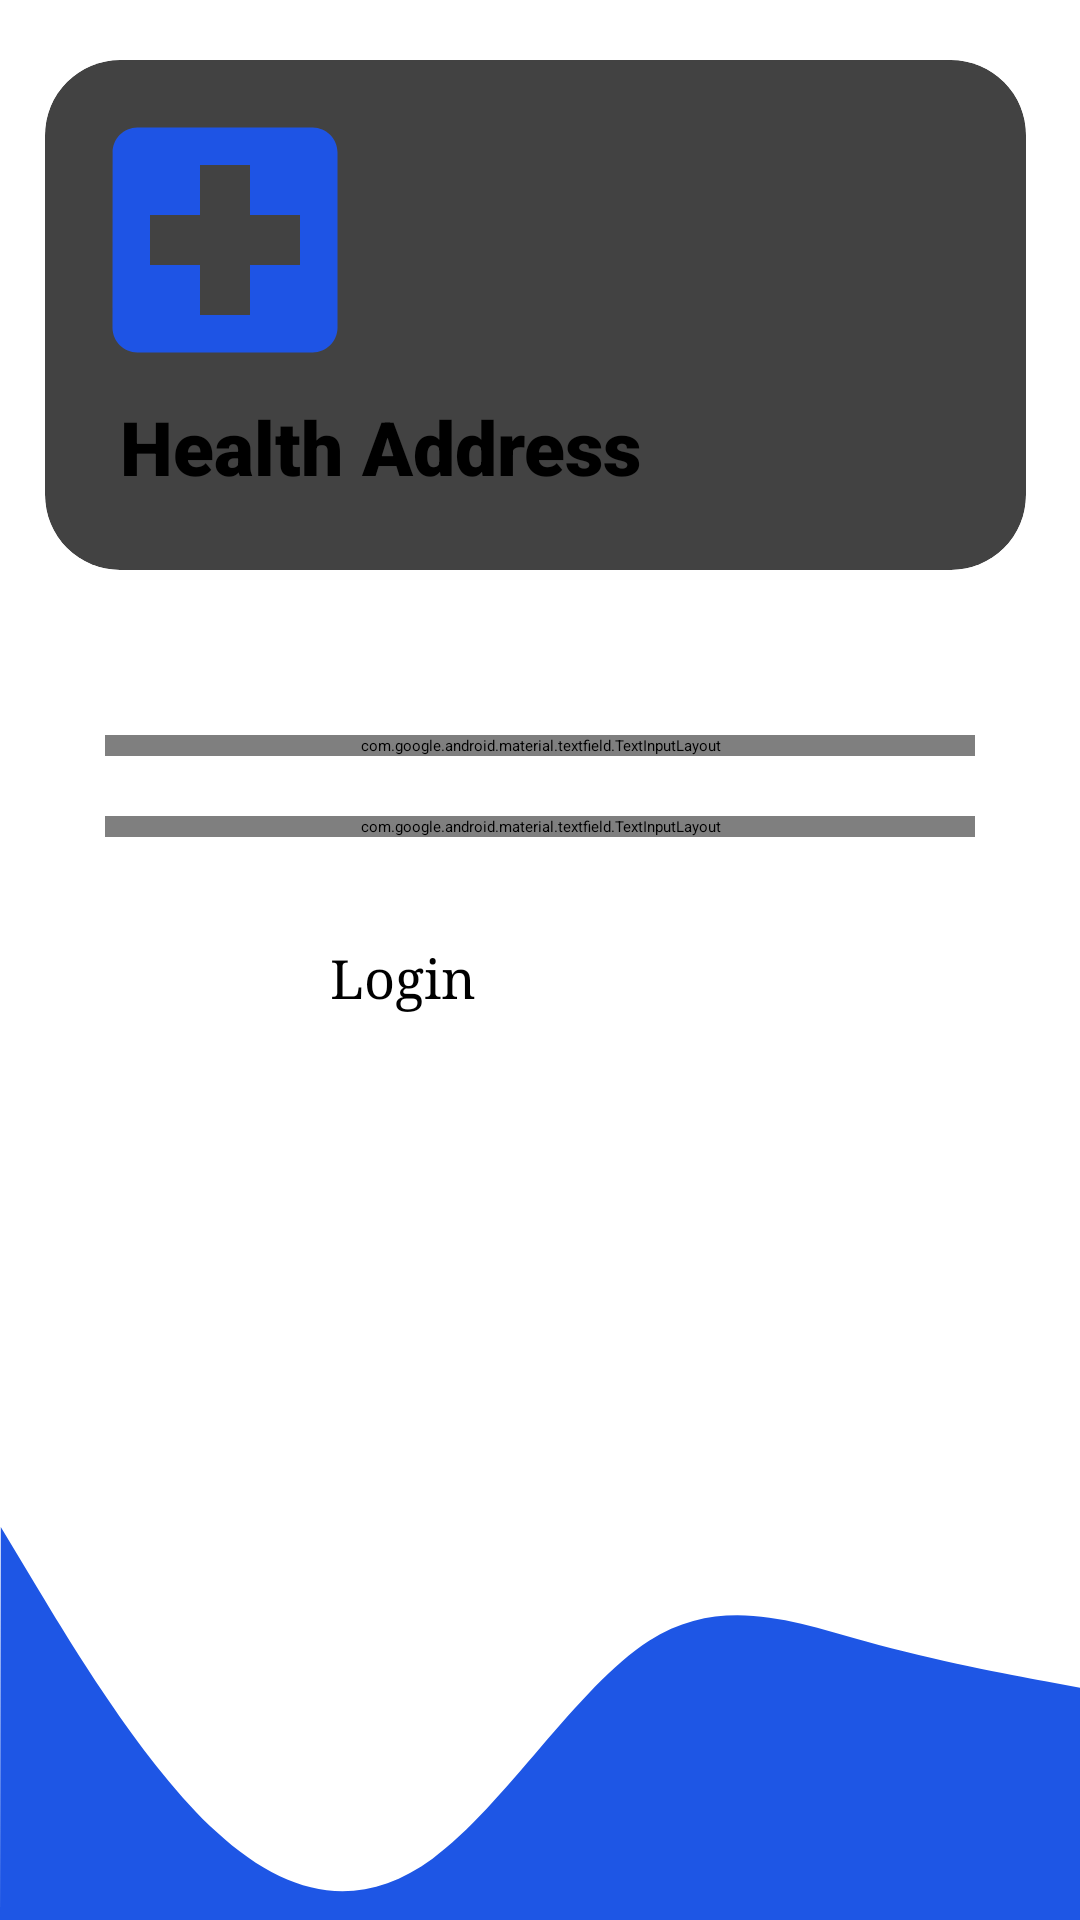

Icon bounding boxes for this 1080px×1920px phone screenshot, format box=[x1, y1, x2, y2]:
palang: box=[112, 127, 338, 353]
